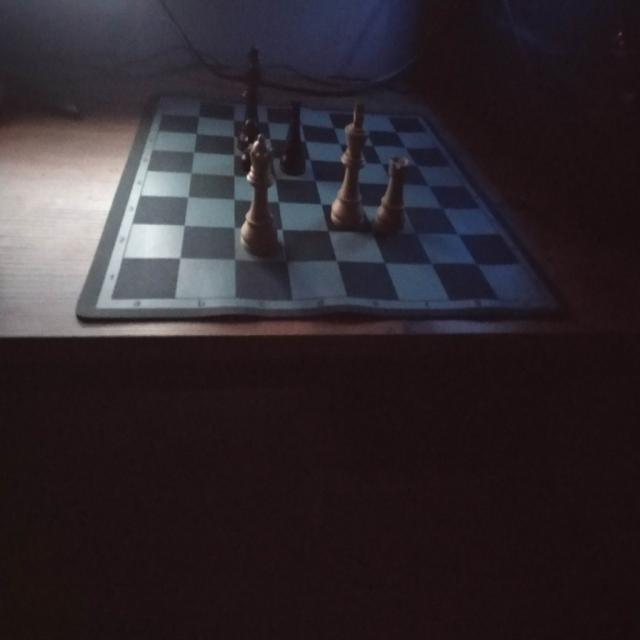chess-table-corners: (408, 106, 426, 129), (152, 88, 170, 106), (535, 290, 553, 308), (103, 288, 119, 308)
